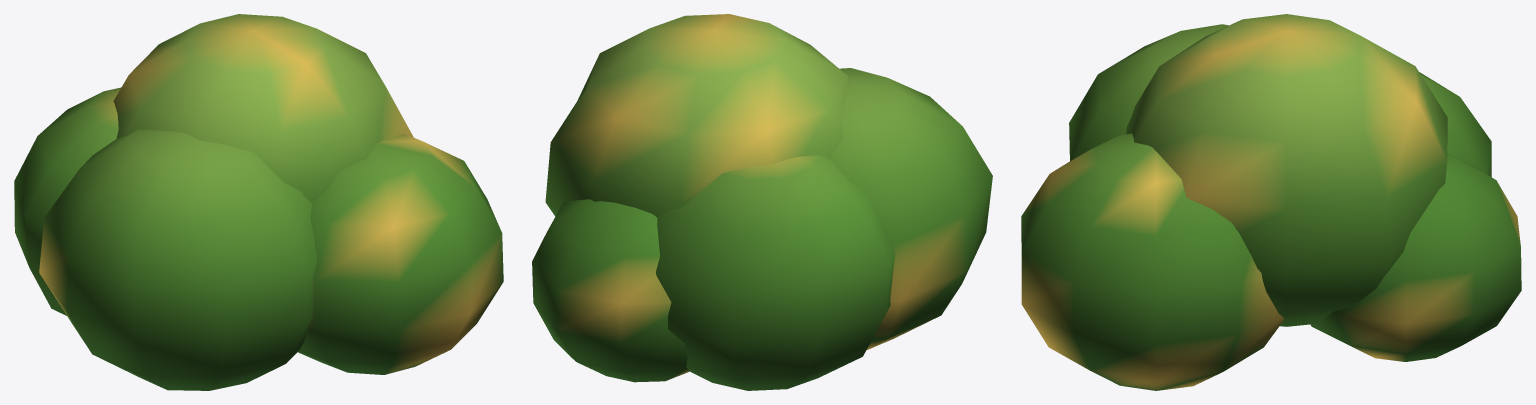
File: tufa_1.glb
3 views of the same model, side by side, from view 1: azimuth 30°, elevation 25°; view 2: azimuth 150°, elevation 25°; view 3: azimuth 270°, elevation 25° (orthographic). The views are drawn at different scales.
Visible parts, largest first — view 1: tufa_1; view 2: tufa_1; view 3: tufa_1.
Part boxes in pixels (x1,y1,x2,y2): tufa_1: (14, 14, 503, 390); tufa_1: (532, 14, 992, 390); tufa_1: (1021, 14, 1521, 390).
Size of the model in its own units: 1.04 by 0.7652 by 1.09.
